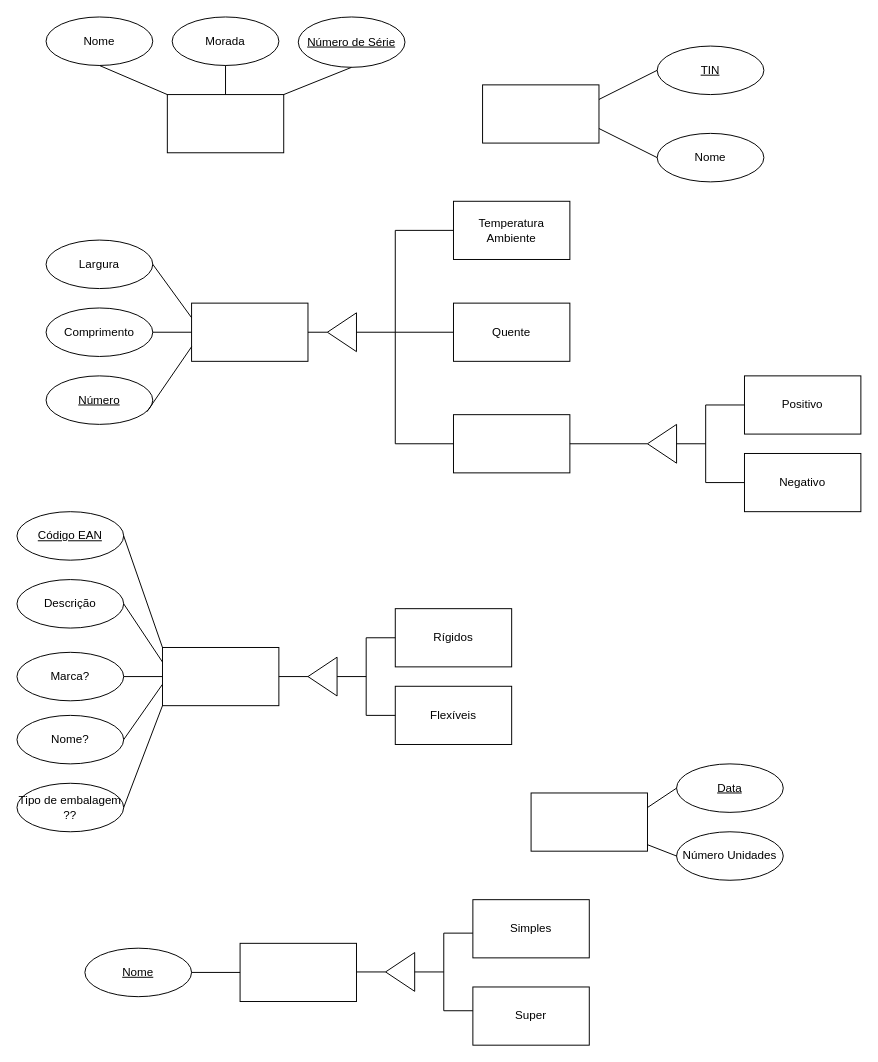
Image size: 878x1062. Some labels were removed from this diagram. Here are the shapes that lost their labels. From the top down, the centre of each, then its label:
At pixel 225 123: "IVM".
At pixel 540 113: "Retalhista".
At pixel 249 331: "Prateleira".
At pixel 511 443: "Frio".
At pixel 220 676: "Produto".
At pixel 588 821: "Reabastecimento".
At pixel 297 972: "Categoria".
